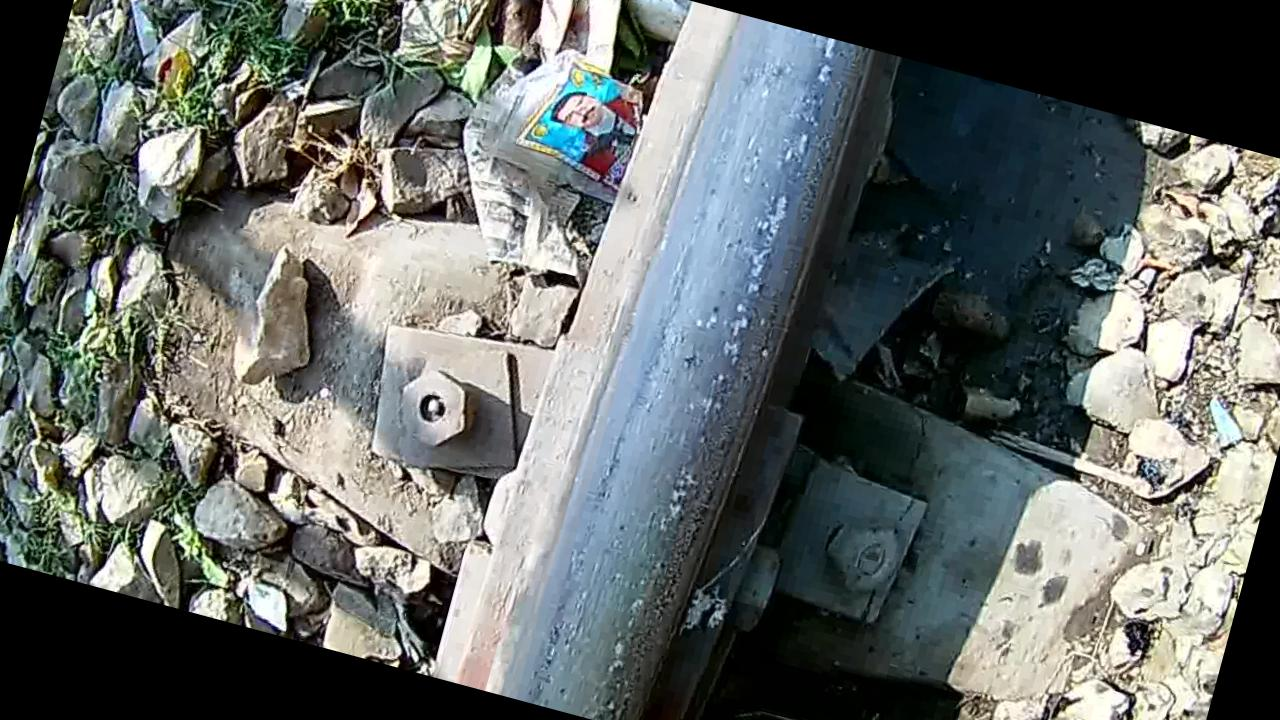clip_missing: (501, 0, 881, 720)
